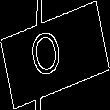O_S: (36, 25, 74, 85)
